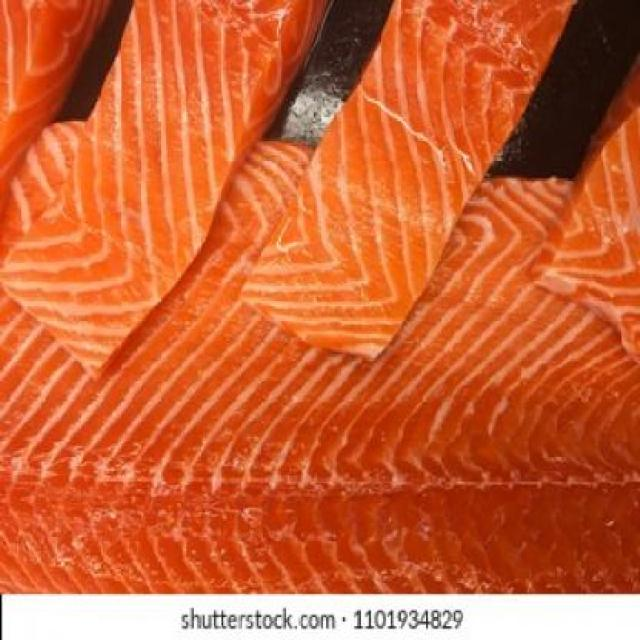salmon: (4, 120, 640, 594), (232, 3, 581, 380), (6, 6, 351, 361), (524, 38, 640, 383)
